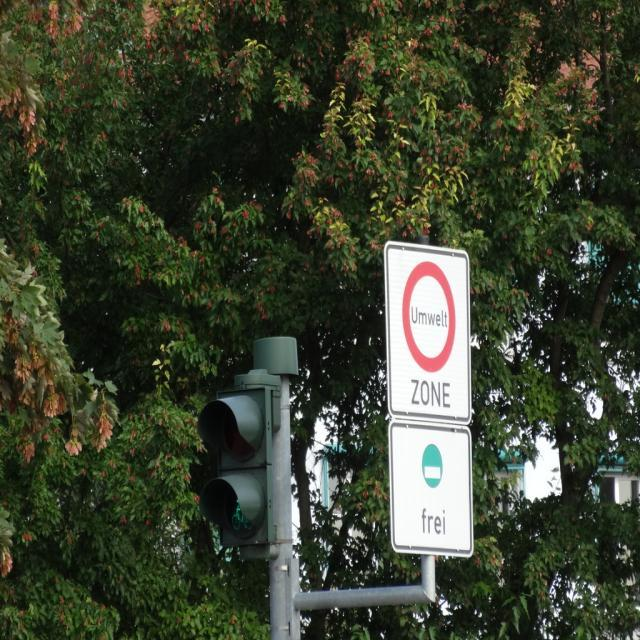traffic light: (201, 390, 281, 545)
